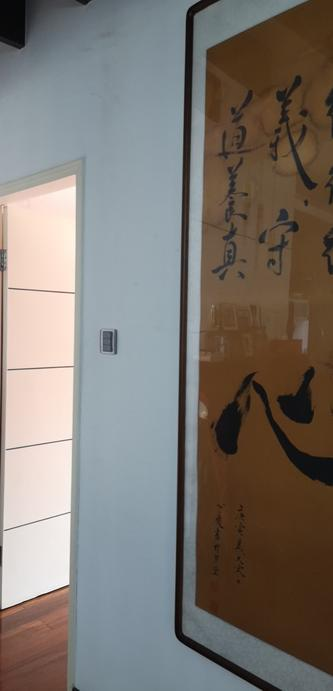switch: (103, 330, 116, 348)
